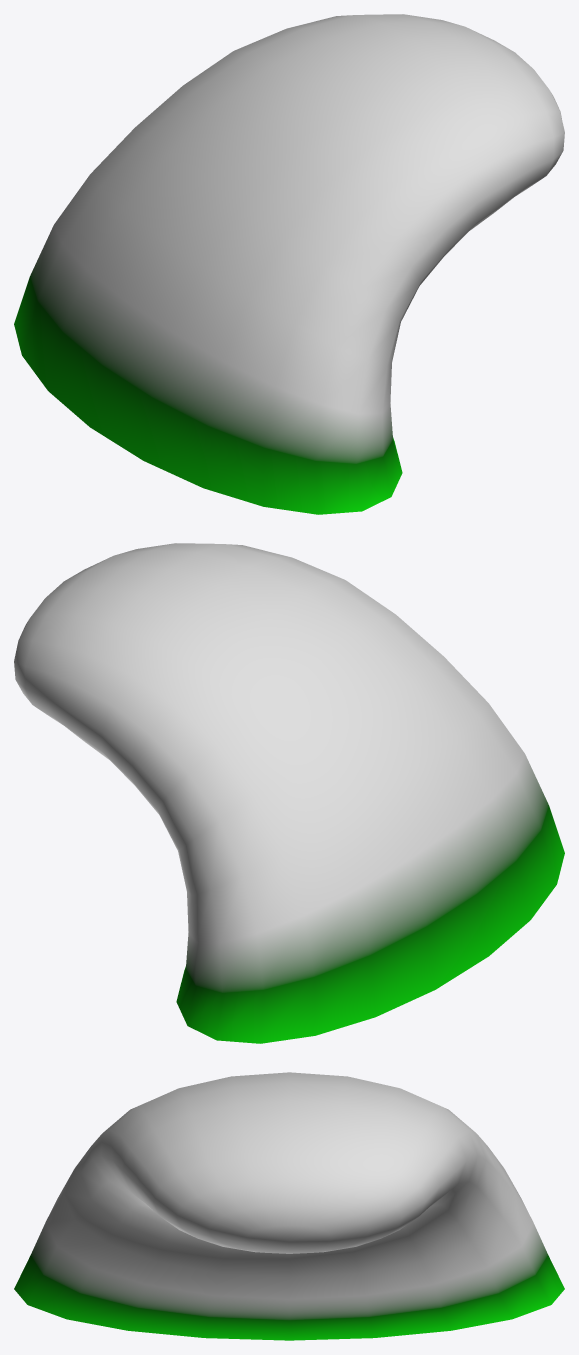
File: TsunamiClassic.fbx
3 views of the same model, one above another, from view 1: azimuth 30°, elevation 25°; view 2: azimuth 150°, elevation 25°; view 3: azimuth 270°, elevation 25° (orthographic). The views are drawn at different scales.
Visible parts, largest first — view 1: TsunamiClassic1; view 2: TsunamiClassic1; view 3: TsunamiClassic1.
Boxes of the visible parts, x1=… form: TsunamiClassic1: x1=14, y1=14, x2=564, y2=514; TsunamiClassic1: x1=14, y1=543, x2=564, y2=1043; TsunamiClassic1: x1=14, y1=1072, x2=564, y2=1340.
Bounding box in the file's own units: 156 × 104 × 188.
